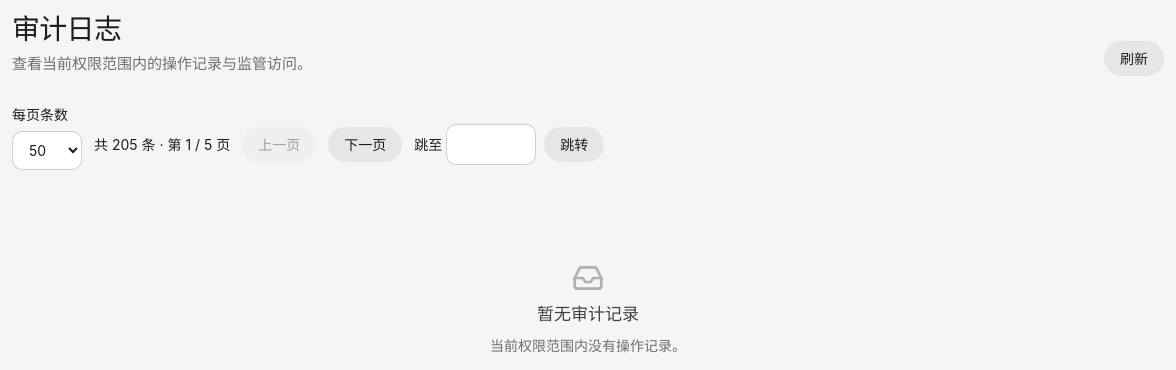
Test: recovers out of range after refresh and retries errors
The width and height of the screenshot is (1176, 370).
Expected: the text "共 205 条 · 第 1 / 5 页" is shown, [94,134,230,155]
Click the button "下一页".
click(365, 144)  # box [328,127,402,162]
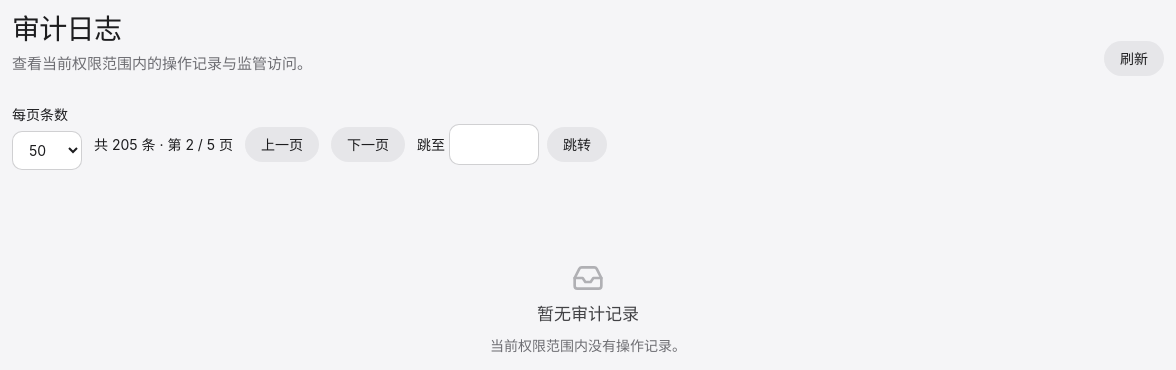
Expected: the text "共 205 条 · 第 2 / 5 页" is shown, [94,134,233,155]
Click the button "刷新".
click(1134, 58)  # box [1104,40,1164,76]
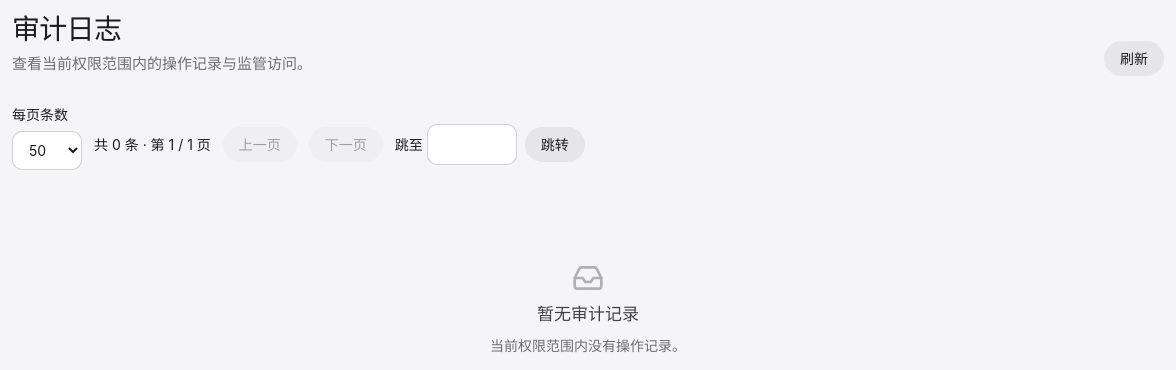
Expected: the text "共 0 条 · 第 1 / 1 页" is shown, [94,134,211,155]
Click the button "刷新".
click(1134, 58)  # box [1104,40,1164,76]
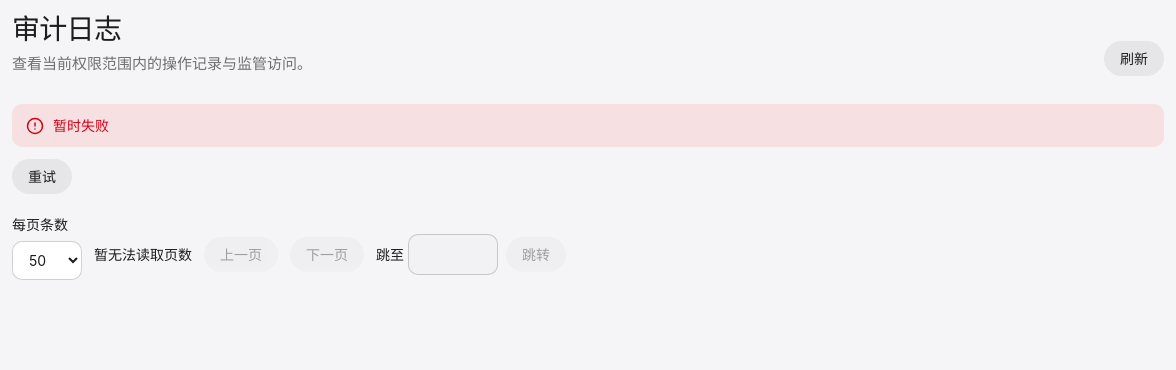
Expected: the text "暂时失败" is shown, [12,104,1164,146]
Click the button "重试".
click(42, 176)  # box [12,158,72,194]
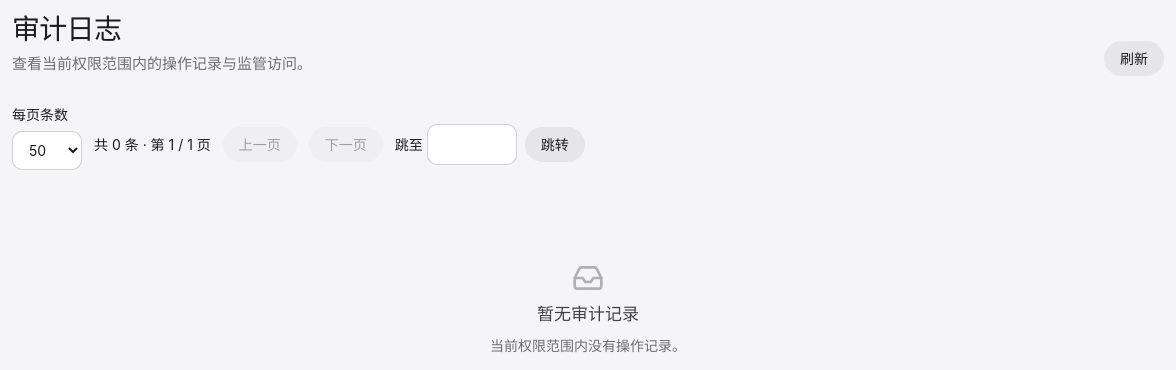
Expected: the text "暂无审计记录" is shown, [537,302,639,327]
